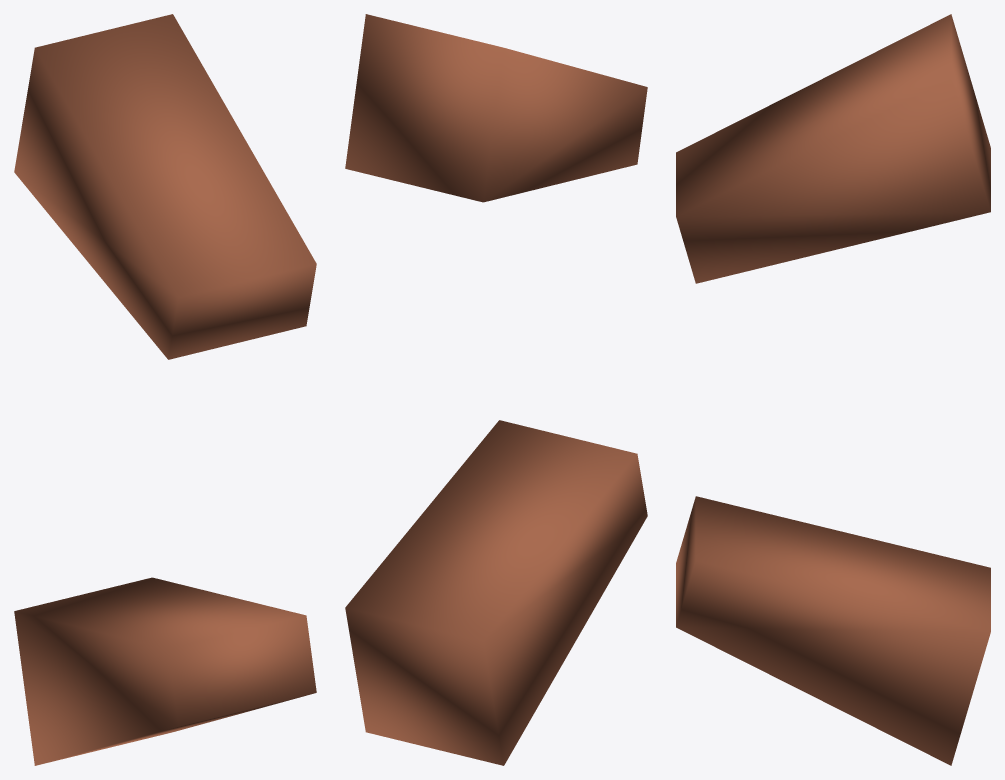
File: half_apple_seeds.obj
3 views of the same model, side by side, from view 1: azimuth 30°, elevation 25°; view 2: azimuth 150°, elevation 25°; view 3: azimuth 270°, elevation 25° (orthographic). The views are drawn at different scales.
Visible parts, largest first — view 1: appleHalf.003; view 2: appleHalf.003; view 3: appleHalf.003.
Part boxes in pixels (left/top/right/bottom): appleHalf.003: left=14, top=14, right=316, bottom=765; appleHalf.003: left=345, top=14, right=647, bottom=765; appleHalf.003: left=676, top=14, right=990, bottom=765.
Bounding box in the file's own units: 0.01 × 0.0497 × 0.0206.
